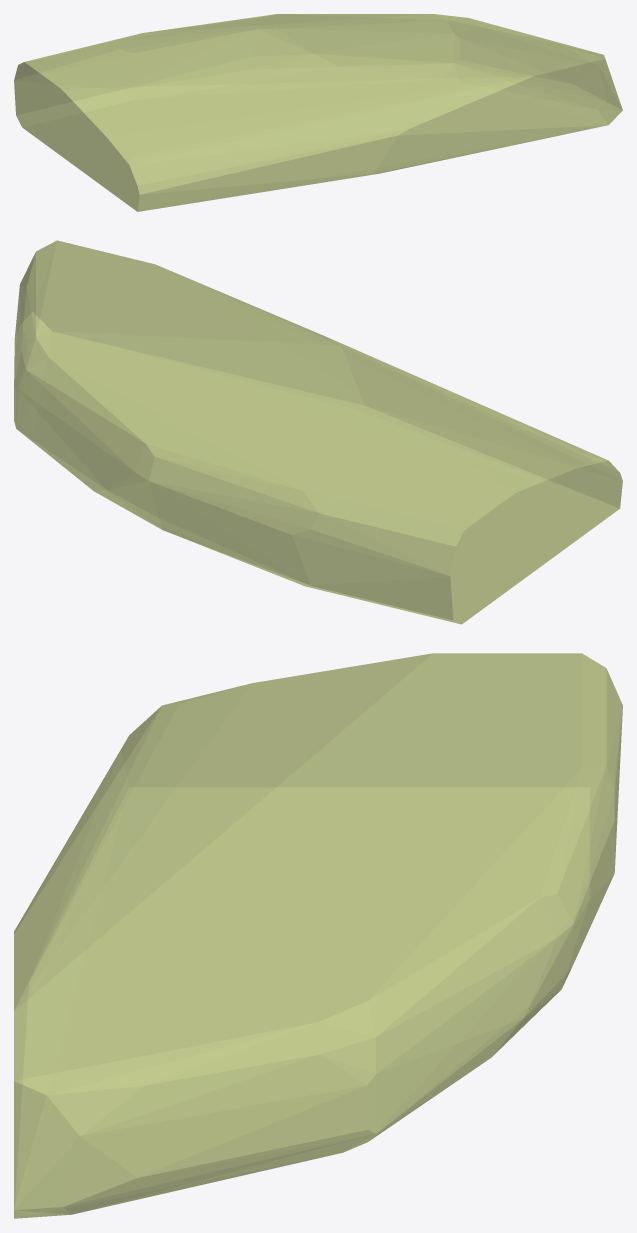
3 views of the same model, one above another, from view 1: azimuth 30°, elevation 25°; view 2: azimuth 150°, elevation 25°; view 3: azimuth 270°, elevation 25° (orthographic). The views are drawn at different scales.
Visible parts, largest first — view 1: Shape_IndexedFaceSet.002_Shape_IndexedFaceSet.12875; view 2: Shape_IndexedFaceSet.002_Shape_IndexedFaceSet.12875; view 3: Shape_IndexedFaceSet.002_Shape_IndexedFaceSet.12875.
Part boxes in pixels (box(x1,y1,x2,y2)): Shape_IndexedFaceSet.002_Shape_IndexedFaceSet.12875: box(14, 14, 622, 211); Shape_IndexedFaceSet.002_Shape_IndexedFaceSet.12875: box(14, 240, 622, 624); Shape_IndexedFaceSet.002_Shape_IndexedFaceSet.12875: box(14, 653, 622, 1218).
Bounding box in the file's own units: 0.3201 × 0.045 × 0.185.
